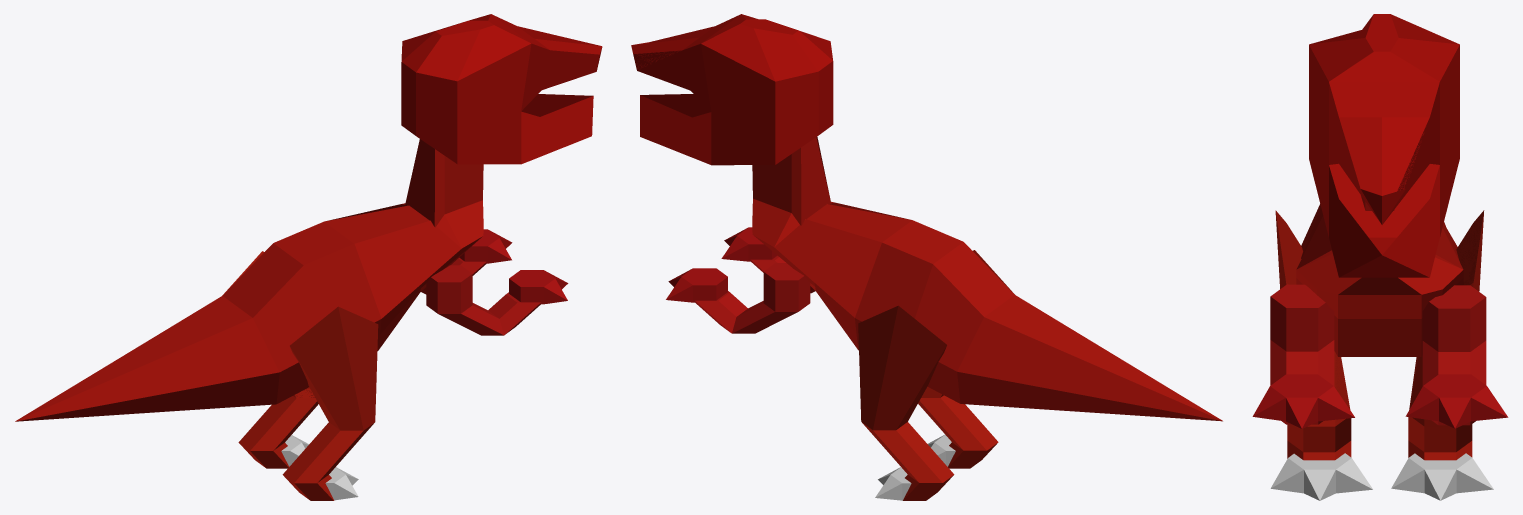
The model's file is raptor.obj.
3 renders of one model, left to right at view 1: azimuth 30°, elevation 25°; view 2: azimuth 150°, elevation 25°; view 3: azimuth 270°, elevation 25°, orthographic. The views are drawn at different scales.
Visible parts, largest first — view 1: body_Cylinder.001, head_Cylinder.003, legs_Cylinder, arms_Cylinder.004, hands_Cylinder.005, Feet_Cylinder.002; view 2: body_Cylinder.001, head_Cylinder.003, legs_Cylinder, arms_Cylinder.004, hands_Cylinder.005, Feet_Cylinder.002; view 3: head_Cylinder.003, body_Cylinder.001, arms_Cylinder.004, legs_Cylinder, hands_Cylinder.005, Feet_Cylinder.002.
Boxes of the visible parts, left/top/right/bottom form: body_Cylinder.001: left=15, top=139, right=483, bottom=421; head_Cylinder.003: left=401, top=14, right=602, bottom=164; legs_Cylinder: left=222, top=251, right=378, bottom=500; arms_Cylinder.004: left=421, top=257, right=540, bottom=335; hands_Cylinder.005: left=459, top=229, right=568, bottom=304; Feet_Cylinder.002: left=281, top=435, right=358, bottom=500; body_Cylinder.001: left=752, top=137, right=1222, bottom=421; head_Cylinder.003: left=631, top=14, right=833, bottom=165; legs_Cylinder: left=858, top=250, right=1014, bottom=500; arms_Cylinder.004: left=695, top=255, right=815, bottom=333; hands_Cylinder.005: left=666, top=227, right=777, bottom=302; Feet_Cylinder.002: left=875, top=434, right=955, bottom=500; head_Cylinder.003: left=1309, top=14, right=1459, bottom=277; body_Cylinder.001: left=1296, top=195, right=1463, bottom=356; arms_Cylinder.004: left=1270, top=284, right=1486, bottom=425; legs_Cylinder: left=1275, top=210, right=1484, bottom=460; hands_Cylinder.005: left=1252, top=374, right=1508, bottom=428; Feet_Cylinder.002: left=1270, top=453, right=1493, bottom=500.
Size of the model in its own units: 14.66 by 9.7 by 4.01.
